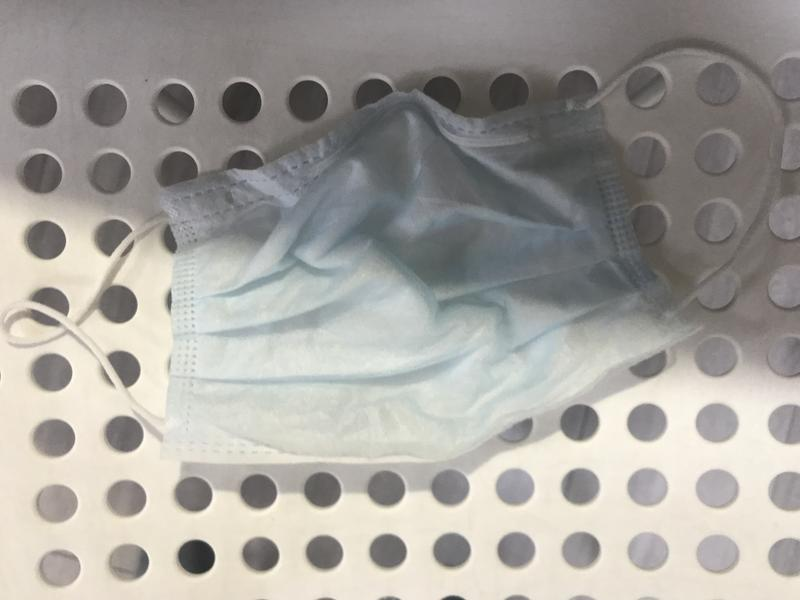medical_mask: (1, 45, 785, 459)
